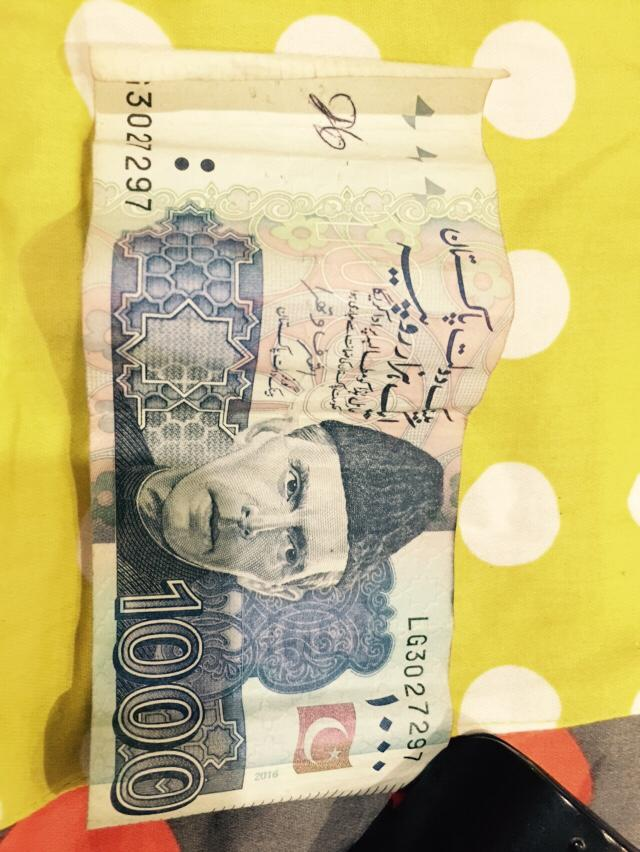1000 rupee: (63, 42, 512, 819)
